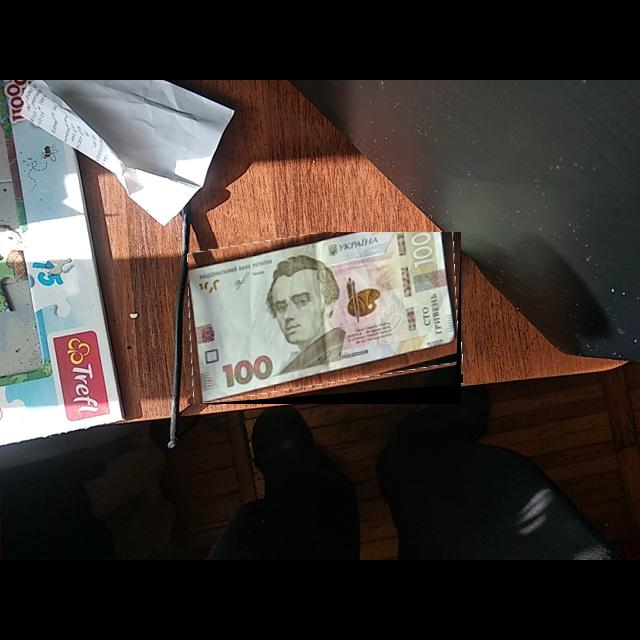100uah: (188, 232, 459, 404)
